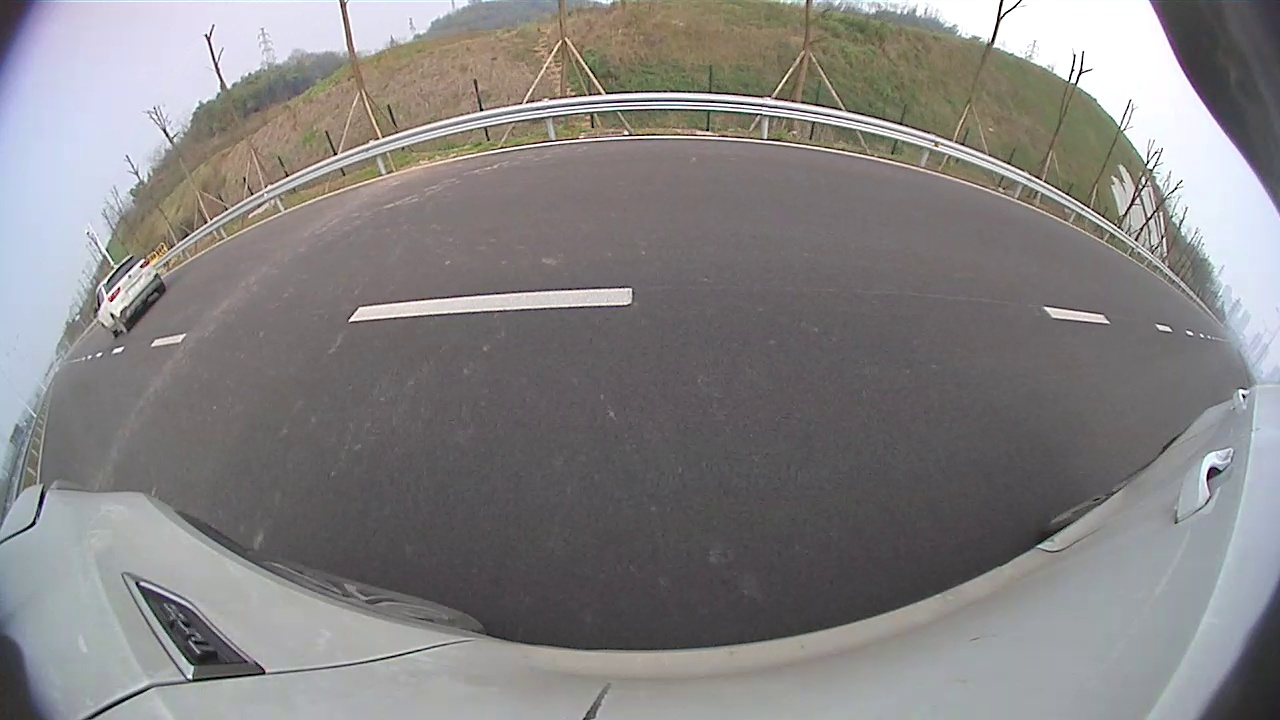car: (95, 254, 166, 336)
rear: (111, 314, 129, 334)
